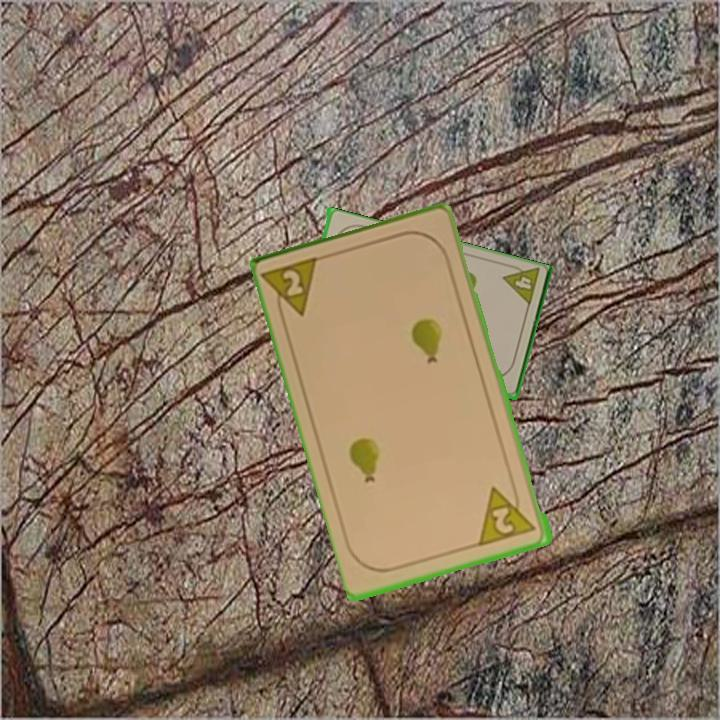2p: (261, 253, 325, 326), (476, 479, 541, 549)
4p: (499, 260, 542, 310)
